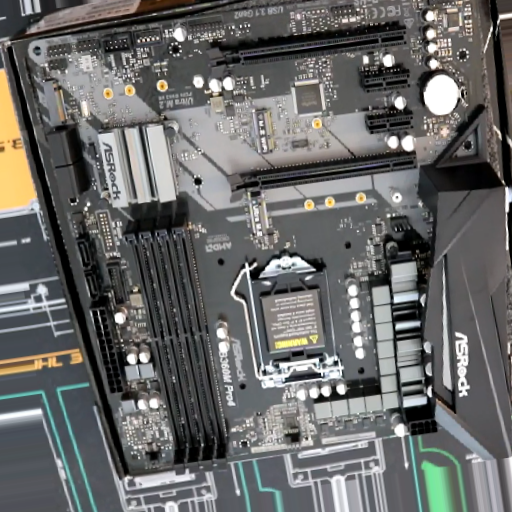CPU: (252, 251, 339, 391)
GPU: (210, 24, 408, 79), (228, 150, 418, 201)
MOTHERBOARD: (29, 4, 504, 474)
RAM: (125, 211, 229, 462)
SSD: (248, 196, 273, 249), (254, 107, 275, 155)
